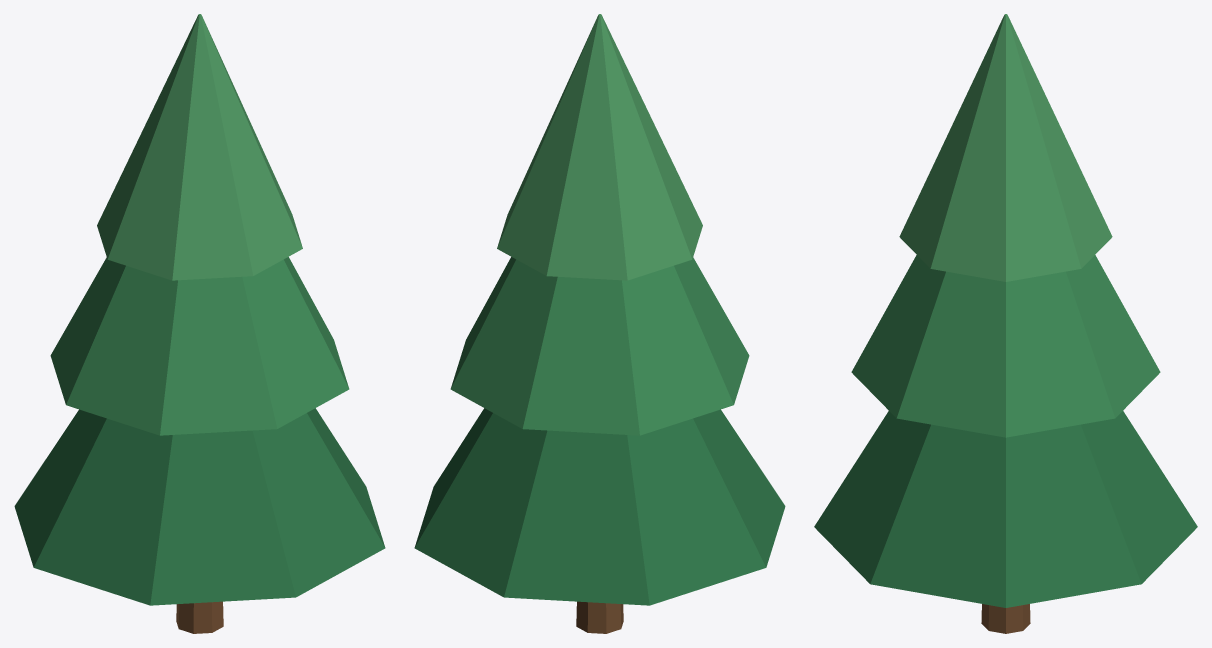
File: pine.glb
3 renders of one model, left to right at view 1: azimuth 30°, elevation 25°; view 2: azimuth 150°, elevation 25°; view 3: azimuth 270°, elevation 25°, orthographic.
Parts seen in each view (by area): view 1: pine; view 2: pine; view 3: pine.
Boxes of the visible parts, x1=… form: pine: x1=14, y1=14, x2=385, y2=633; pine: x1=414, y1=14, x2=785, y2=633; pine: x1=814, y1=14, x2=1197, y2=633.
Size of the model in its own units: 3.6 by 6.3 by 3.6.
